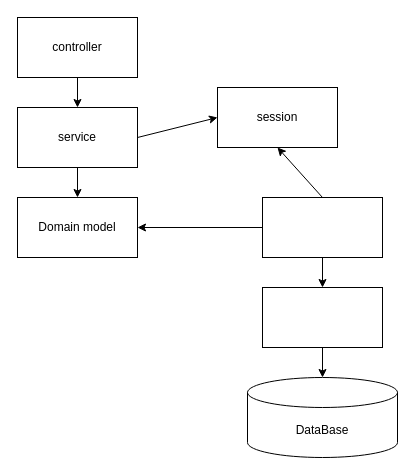
This 415x475 diagram has some shape labels left out. The centre of each missing label's shape, as x and y in pixels:
"Repository" belongs at [322,227].
"storage" belongs at [322,317].
